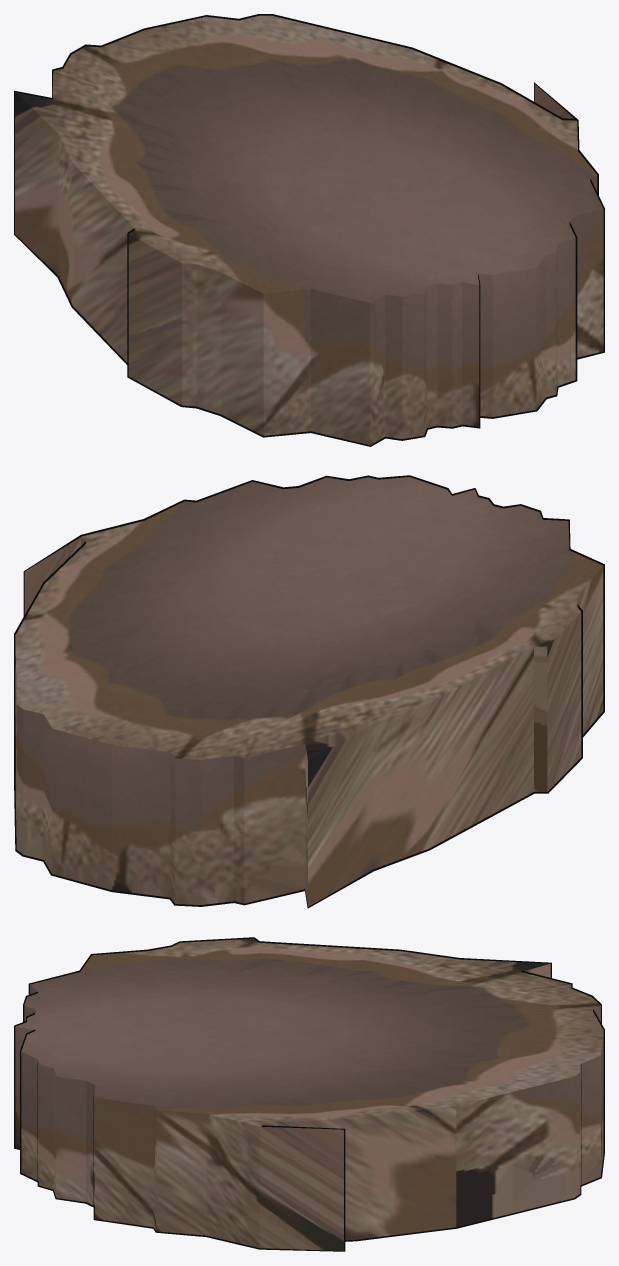
Rendered from Building_CraterLarge_Things_Building_Crater_5x5_Crater5x5A.glb.
3 views of the same model, one above another, from view 1: azimuth 30°, elevation 25°; view 2: azimuth 150°, elevation 25°; view 3: azimuth 270°, elevation 25° (orthographic). The views are drawn at different scales.
Visible parts, largest first — view 1: Body, Outline; view 2: Body, Outline; view 3: Body, Outline.
Boxes of the visible parts, bbox=[...] form: Body: bbox=[15, 15, 603, 445]; Outline: bbox=[14, 14, 604, 446]; Body: bbox=[15, 477, 603, 906]; Outline: bbox=[14, 475, 604, 908]; Body: bbox=[15, 938, 603, 1250]; Outline: bbox=[14, 937, 604, 1251].
Bounding box in the file's own units: 2.15 × 0.6491 × 2.8.
Materials: 2 (1 with a texture image).
